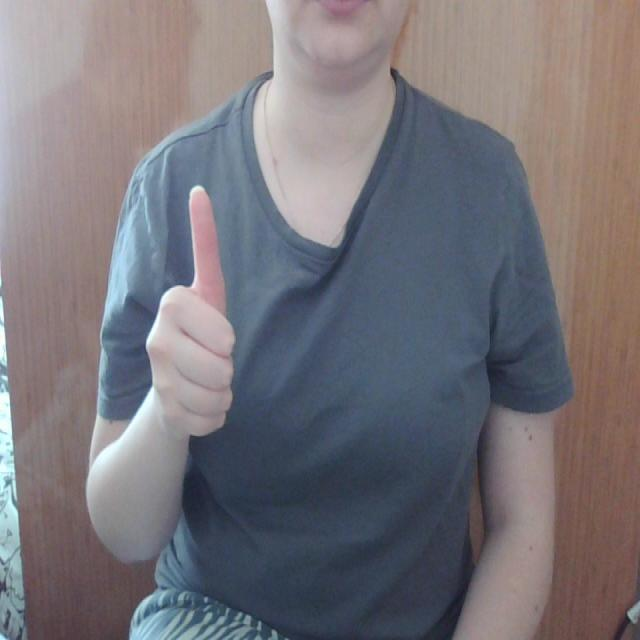Tamam: (140, 180, 242, 438)
